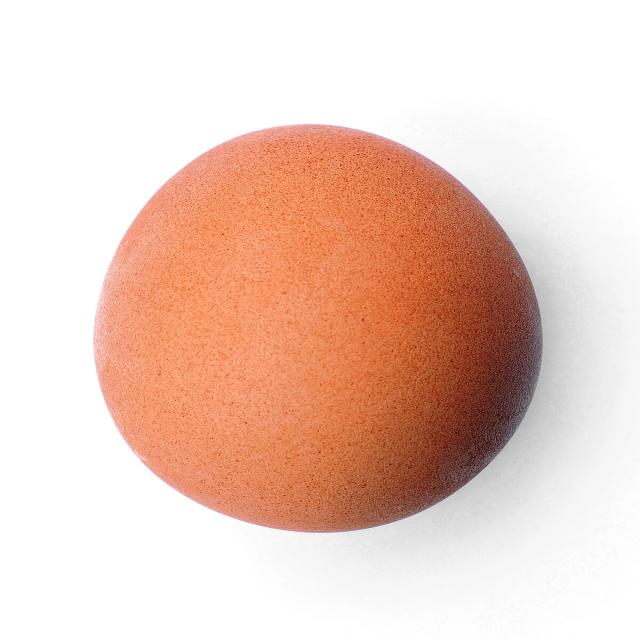egg: (85, 122, 548, 536)
